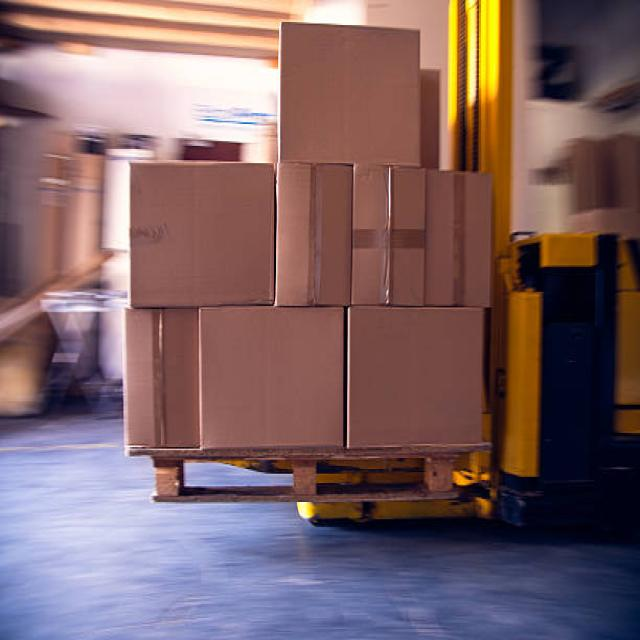Wooden-Pallets: (124, 448, 456, 503)
